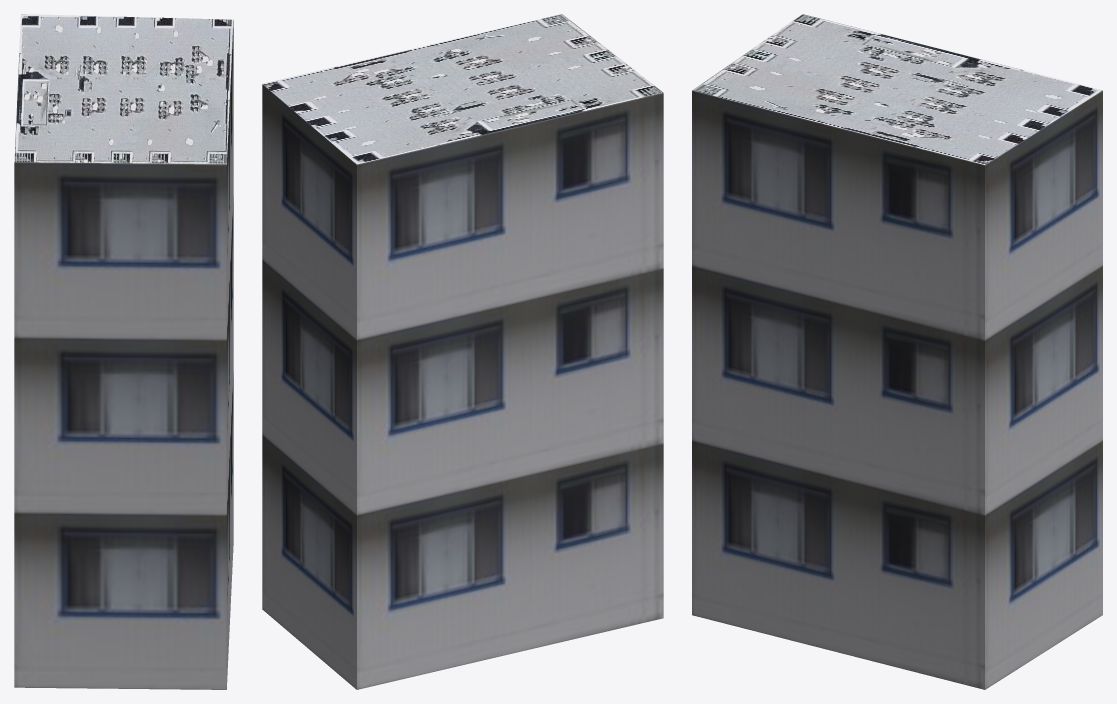
Rendered from ResTex__2213.fbx.
3 renders of one model, left to right at view 1: azimuth 30°, elevation 25°; view 2: azimuth 150°, elevation 25°; view 3: azimuth 270°, elevation 25°, orthographic.
Parts seen in each view (by area): view 1: CityEngineMaterial_9_m, CityEngineMaterial_m; view 2: CityEngineMaterial_9_m, CityEngineMaterial_m; view 3: CityEngineMaterial_9_m, CityEngineMaterial_m.
Part boxes in pixels (box(x1,y1,x2,y2)): CityEngineMaterial_9_m: box(14, 20, 233, 689); CityEngineMaterial_m: box(14, 14, 233, 164); CityEngineMaterial_9_m: box(262, 84, 663, 689); CityEngineMaterial_m: box(262, 14, 663, 164); CityEngineMaterial_9_m: box(692, 90, 1102, 689); CityEngineMaterial_m: box(692, 14, 1102, 164).
Size of the model in its own units: 5.56 by 9 by 6.39.
2 materials, 2 textured.
